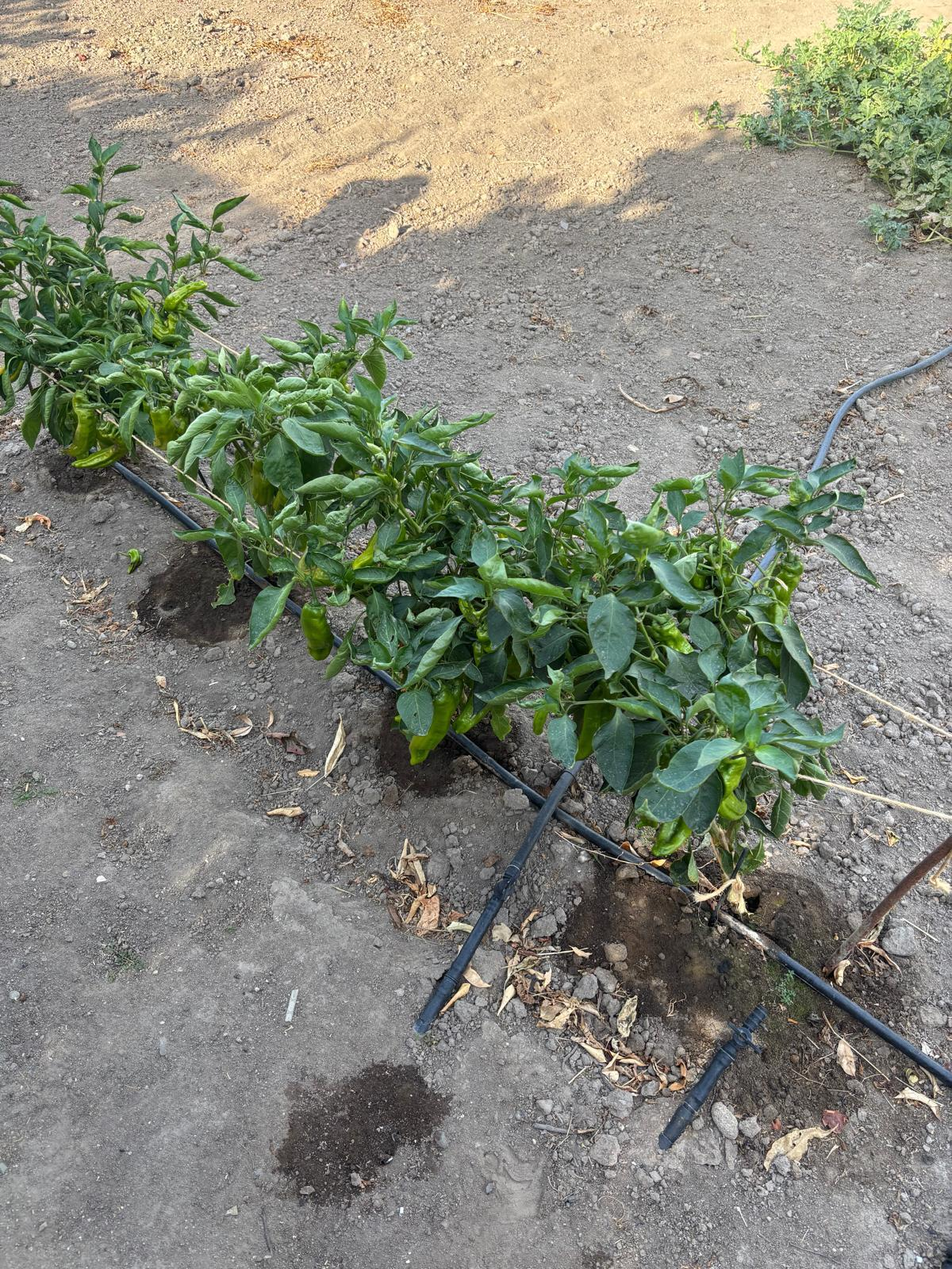pimientera: (40, 175, 844, 965)
